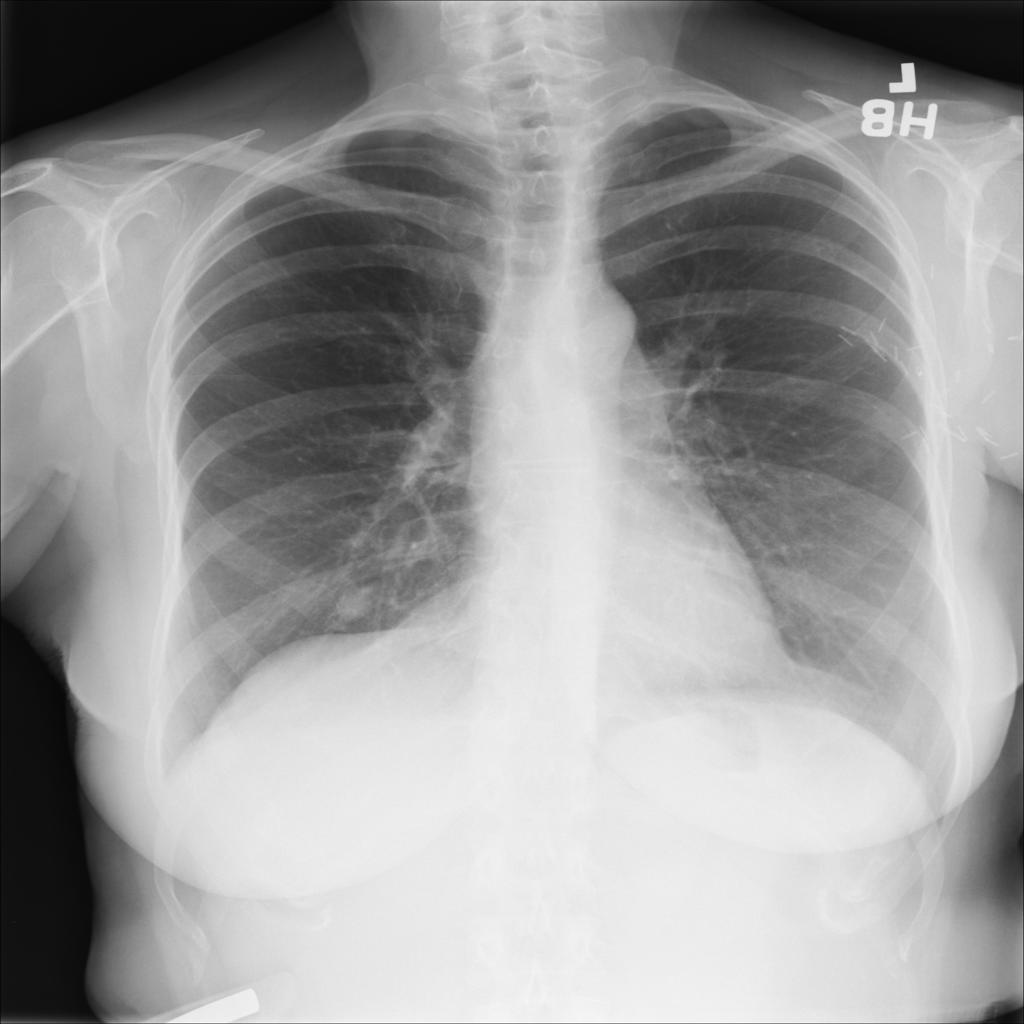nodule: (313, 570, 394, 635)
